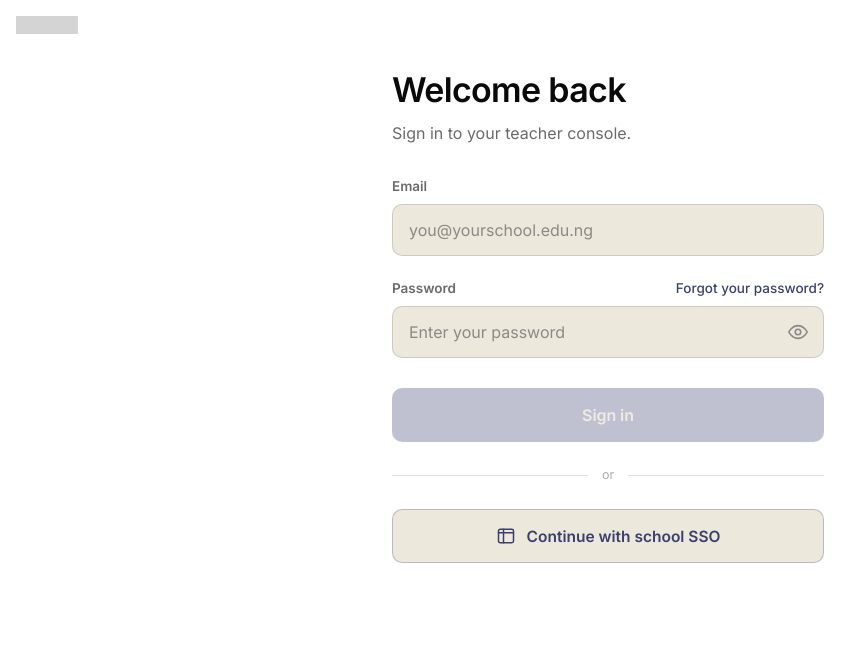
Test case: which field is at fault (T207) › marks the password when the email and password did not match
In the field labelled "Email": coordinates (608, 230) [392,204,824,256], type "ada@school.ng"
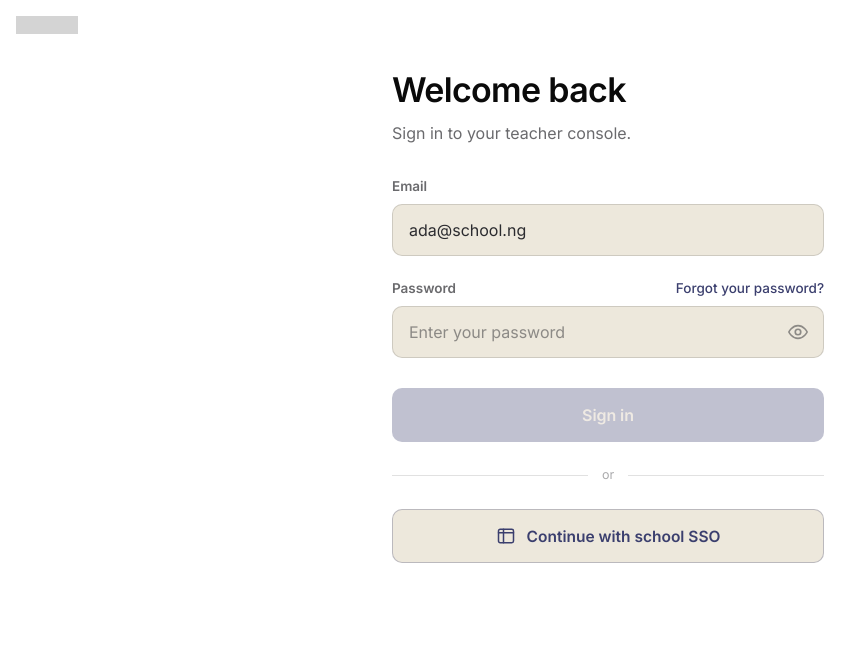
In the password field labelled "Password": coordinates (594, 332) [409,307,779,357], type "lessons42"
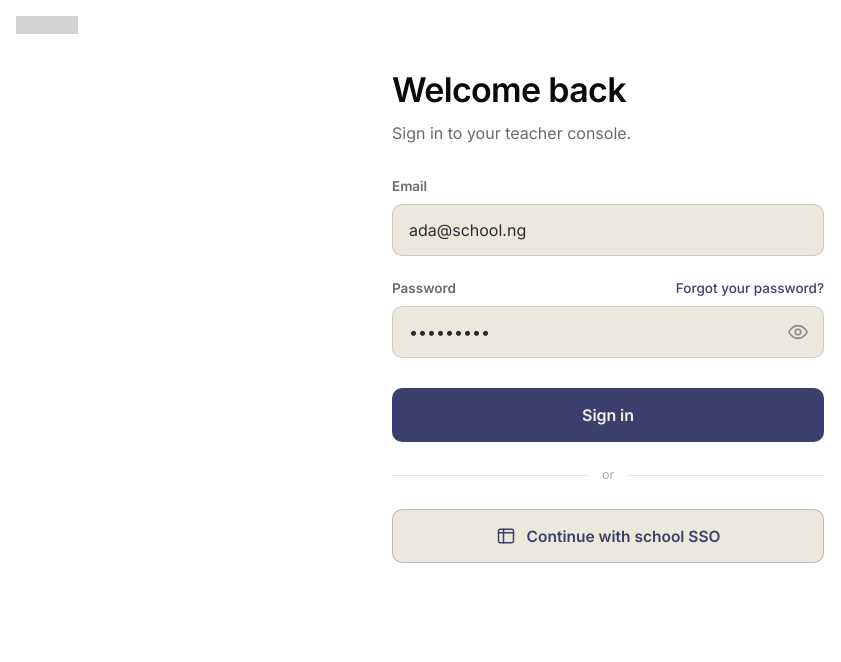
Click the button "Sign in": coordinates (608, 415) [392,388,824,442]
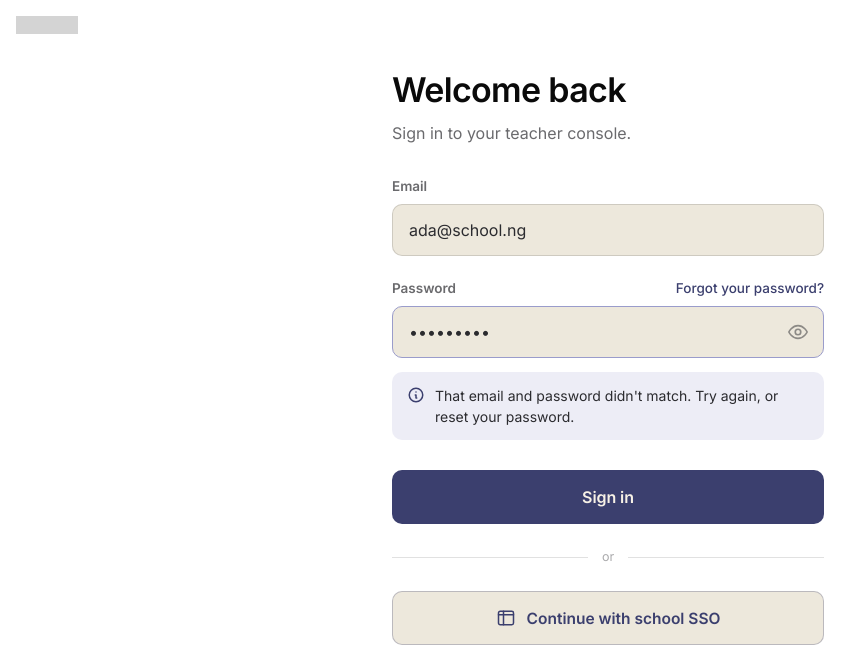
Result: the text "didn.t match" is shown at [435,387,778,425]
